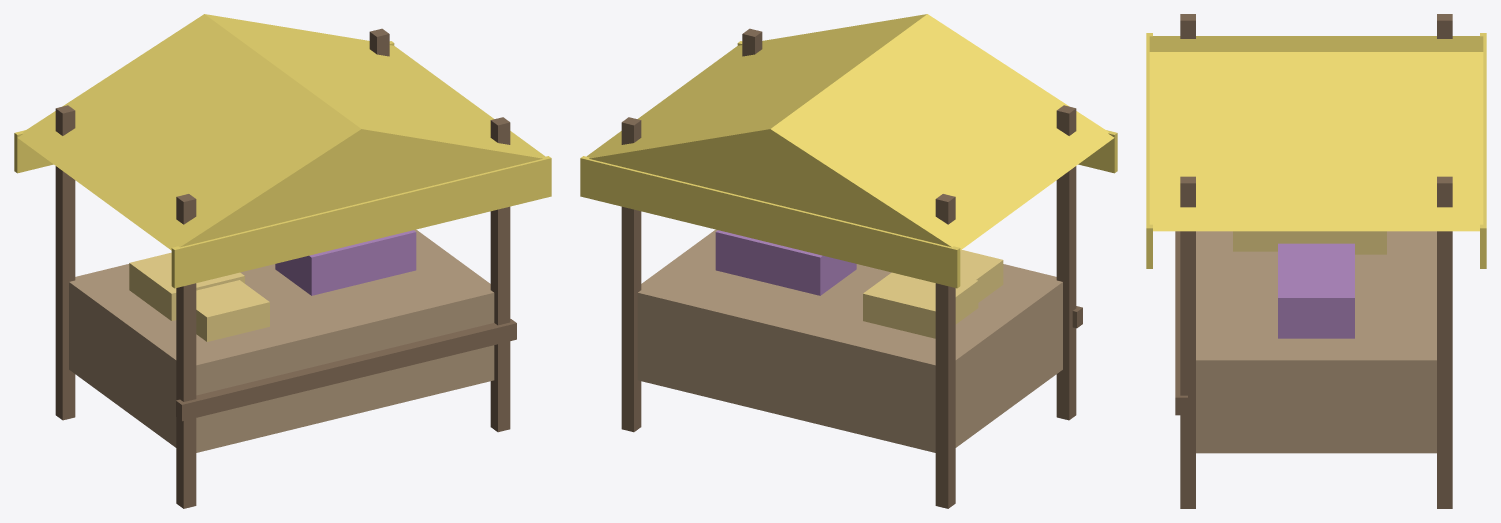
File: market_stall_yellow_white.glb
3 renders of one model, left to right at view 1: azimuth 30°, elevation 25°; view 2: azimuth 150°, elevation 25°; view 3: azimuth 270°, elevation 25°, orthographic. The views are drawn at different scales.
Parts seen in each view (by area): view 1: MarketStall_yellow_white; view 2: MarketStall_yellow_white; view 3: MarketStall_yellow_white.
Boxes of the visible parts, left/top/right/bottom form: MarketStall_yellow_white: left=14, top=14, right=551, bottom=508; MarketStall_yellow_white: left=580, top=14, right=1117, bottom=508; MarketStall_yellow_white: left=1146, top=14, right=1486, bottom=508.
Size of the model in its own units: 3.6 by 3.2 by 2.65.
